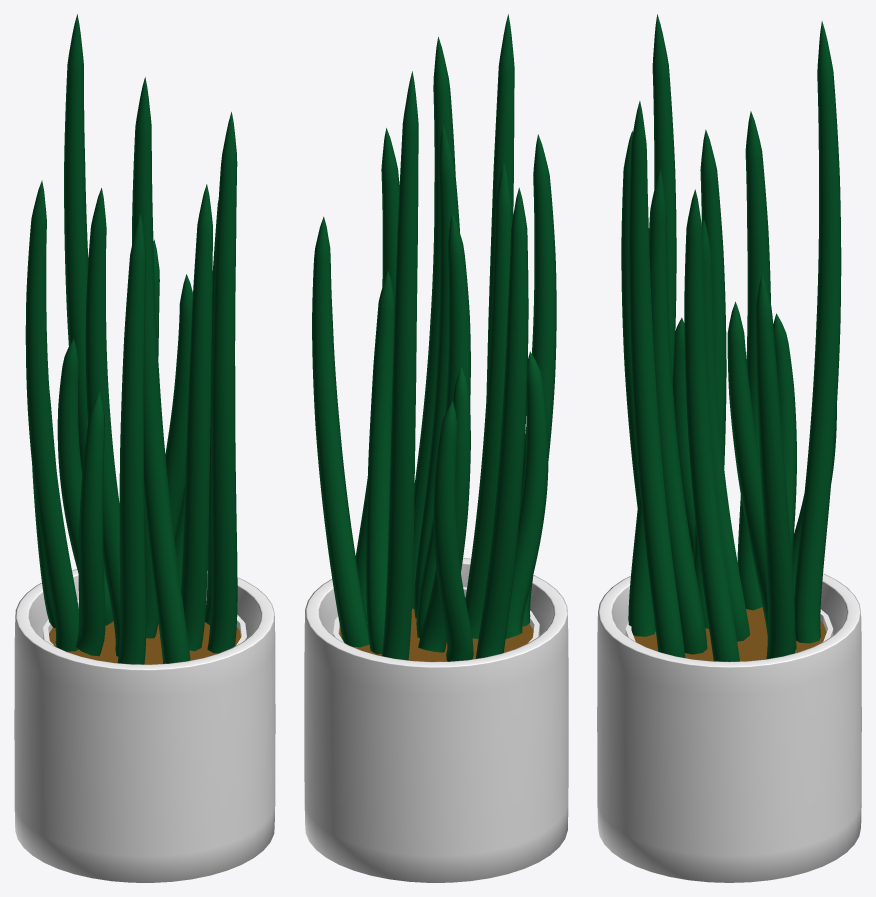
File: plant.gltf
The picture shows the model from 3 angles, left to right: view 1: azimuth 30°, elevation 25°; view 2: azimuth 150°, elevation 25°; view 3: azimuth 270°, elevation 25°; orthographic projection.
Visible parts, largest first — view 1: Plant; view 2: Plant; view 3: Plant.
Part boxes in pixels (x1,y1,x2,y2): Plant: (14,14,275,882); Plant: (304,14,568,882); Plant: (597,14,861,882).
Bounding box in the file's own units: 0.6642 × 2.21 × 0.6642.
